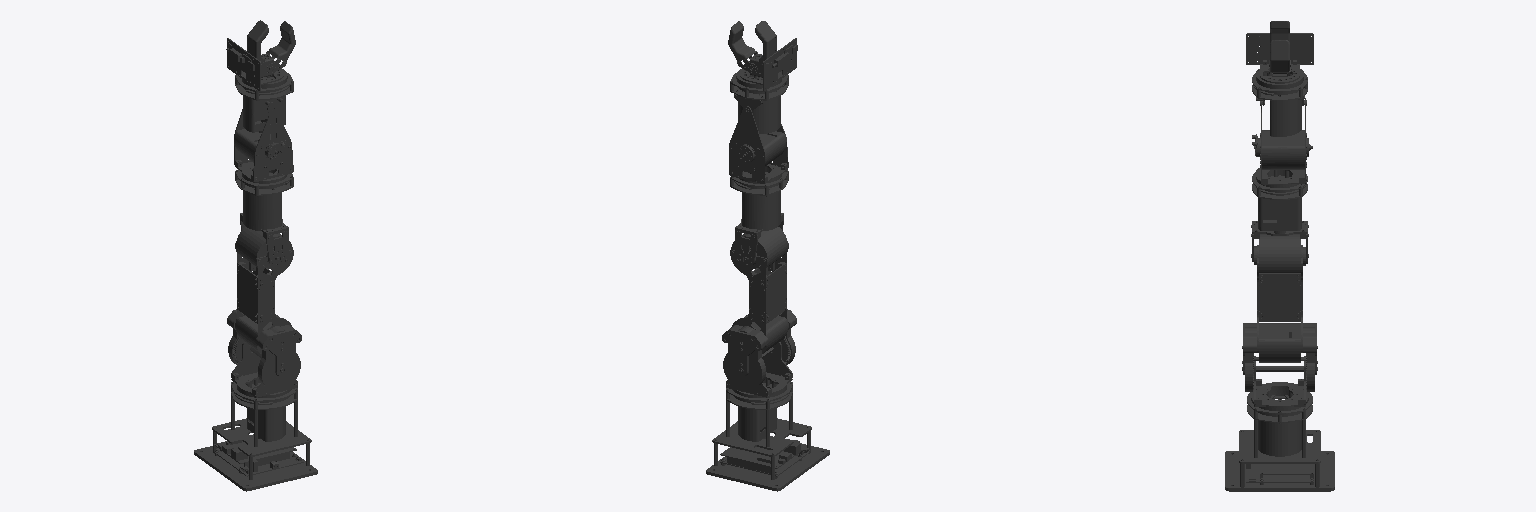
URDF robot description (nekonote):
<?xml version="1.0" ?>
<!-- =================================================================================== -->
<!-- |    This document was autogenerated by xacro from nekonote.urdf.xacro            | -->
<!-- |    EDITING THIS FILE BY HAND IS NOT RECOMMENDED                                 | -->
<!-- =================================================================================== -->
<robot name="nekonote" xmlns:xacro="http://ros.org/wiki/xacro">
  <!-- NEKONOTE Base URDF -->
  <!-- Pi, the ratio of a circle's circumference to its diameter -->
  <!-- Pi divided by two -->
  <!-- Pi divided by four -->
  <!-- links -->
  <link name="base"/>
  <link name="base_link">
    <visual>
      <origin rpy="0 0 0" xyz="0 0 0"/>
      <geometry>
        <mesh filename="package://nekonote_description/meshes/visual/base/BODY.stl"/>
      </geometry>
      <material name="">
        <color rgba="0.3 0.3 0.3 1"/>
      </material>
    </visual>
    <collision>
      <origin rpy="0 0 0" xyz="0 0 0"/>
      <geometry>
        <mesh filename="package://nekonote_description/meshes/collision/base/BODY.stl"/>
      </geometry>
    </collision>
    <inertial>
      <origin rpy="0 0 0" xyz="-0.001239 -0.000962 0.075348"/>
      <mass value="0.851526"/>
      <inertia ixx="0.00234632" ixy="8.864e-09" ixz="-0.00019645" iyy="0.00224923" iyz="6.2667e-06" izz="0.00142133"/>
    </inertial>
  </link>
  <link name="link1">
    <visual>
      <origin rpy="0 0 0" xyz="0 0 0"/>
      <geometry>
        <mesh filename="package://nekonote_description/meshes/visual/base/JOINT1.stl"/>
      </geometry>
      <material name="">
        <color rgba="0.3 0.3 0.3 1"/>
      </material>
    </visual>
    <collision>
      <origin rpy="0 0 0" xyz="0 0 0"/>
      <geometry>
        <mesh filename="package://nekonote_description/meshes/collision/base/JOINT1.stl"/>
      </geometry>
    </collision>
    <inertial>
      <origin rpy="0 0 0" xyz="0.000216 0 0.032195"/>
      <mass value="0.142759"/>
      <inertia ixx="0.00028078" ixy="0" ixz="9.5105e-07" iyy="0.0001153" iyz="0" izz="0.00026862"/>
    </inertial>
  </link>
  <link name="link2">
    <visual>
      <origin rpy="1.570796327 0 0" xyz="0 0 0"/>
      <geometry>
        <mesh filename="package://nekonote_description/meshes/visual/base/JOINT2.stl"/>
      </geometry>
      <material name="">
        <color rgba="0.3 0.3 0.3 1"/>
      </material>
    </visual>
    <collision>
      <origin rpy="1.570796327 0 0" xyz="0 0 0"/>
      <geometry>
        <mesh filename="package://nekonote_description/meshes/collision/base/JOINT2.stl"/>
      </geometry>
    </collision>
    <inertial>
      <origin rpy="0 0 0" xyz="-0.002309 0.098761 0.00174"/>
      <mass value="0.983205"/>
      <inertia ixx="0.00556176" ixy="-0.00010003" ixz="-3.951e-06" iyy="0.00101996" iyz="-2.650e-05" izz="0.00513079"/>
    </inertial>
  </link>
  <link name="link3">
    <visual>
      <origin rpy="1.570796327 0 0" xyz="0 0 0"/>
      <geometry>
        <mesh filename="package://nekonote_description/meshes/visual/base/JOINT3.stl"/>
      </geometry>
      <material name="">
        <color rgba="0.3 0.3 0.3 1"/>
      </material>
    </visual>
    <collision>
      <origin rpy="1.570796327 0 0" xyz="0 0 0"/>
      <geometry>
        <mesh filename="package://nekonote_description/meshes/collision/base/JOINT3.stl"/>
      </geometry>
    </collision>
    <inertial>
      <origin rpy="0 0 0" xyz="-0.00312 0.08754 -0.00187"/>
      <mass value="0.552063"/>
      <inertia ixx="0.00081437" ixy="-6.414e-06" ixz="3.2409e-06" iyy="0.00039933" iyz="-2.038e-05" izz="0.0007055"/>
    </inertial>
  </link>
  <link name="link4">
    <visual>
      <origin rpy="0 0 0" xyz="0 0 0"/>
      <geometry>
        <mesh filename="package://nekonote_description/meshes/visual/base/JOINT4.stl"/>
      </geometry>
      <material name="">
        <color rgba="0.3 0.3 0.3 1"/>
      </material>
    </visual>
    <collision>
      <origin rpy="0 0 0" xyz="0 0 0"/>
      <geometry>
        <mesh filename="package://nekonote_description/meshes/collision/base/JOINT4.stl"/>
      </geometry>
    </collision>
    <inertial>
      <origin rpy="0 0 0" xyz="0.00227 0.00484 0.04053"/>
      <mass value="0.431401"/>
      <inertia ixx="0.0004845" ixy="7.7315e-06" ixz="-4.916e-06" iyy="0.00036954" iyz="3.8537e-05" izz="0.00039301"/>
    </inertial>
  </link>
  <link name="link5">
    <visual>
      <origin rpy="1.570796327 0 0" xyz="0 0 0"/>
      <geometry>
        <mesh filename="package://nekonote_description/meshes/visual/base/JOINT5.stl"/>
      </geometry>
      <material name="">
        <color rgba="0.3 0.3 0.3 1"/>
      </material>
    </visual>
    <collision>
      <origin rpy="1.570796327 0 0" xyz="0 0 0"/>
      <geometry>
        <mesh filename="package://nekonote_description/meshes/collision/base/JOINT5.stl"/>
      </geometry>
    </collision>
    <inertial>
      <origin rpy="0 0 0" xyz="0.001918 0.009121 -0.003233"/>
      <mass value="0.516153"/>
      <inertia ixx="0.00048104" ixy="2.5913e-05" ixz="-3.218e-06" iyy="0.00033885" iyz="-1.728e-05" izz="0.00051335"/>
    </inertial>
  </link>
  <link name="hand_base"/>
  <!-- joints -->
  <joint name="base_link-base" type="fixed">
    <origin rpy="0 0 0" xyz="0 0 0"/>
    <parent link="base_link"/>
    <child link="base"/>
  </joint>
  <joint name="joint0" type="revolute">
    <origin rpy="0 0 0" xyz="0 0 0.131"/>
    <parent link="base_link"/>
    <child link="link1"/>
    <axis xyz="0 0 1"/>
    <limit effort="0" lower="-1.7453" upper="1.7453" velocity="0"/>
  </joint>
  <joint name="joint1" type="revolute">
    <origin rpy="0 0 0" xyz="0 0 0.044"/>
    <parent link="link1"/>
    <child link="link2"/>
    <axis xyz="0 1 0"/>
    <limit effort="0" lower="-1.57" upper="1.57" velocity="0"/>
  </joint>
  <joint name="joint2" type="revolute">
    <origin rpy="0 0 0" xyz="0 0 0.1825"/>
    <parent link="link2"/>
    <child link="link3"/>
    <axis xyz="0 1 0"/>
    <limit effort="0" lower="-1.8353" upper="2.5837" velocity="0"/>
  </joint>
  <joint name="joint3" type="revolute">
    <origin rpy="0 0 0" xyz="0 0 0.1305"/>
    <parent link="link3"/>
    <child link="link4"/>
    <axis xyz="0 0 1"/>
    <limit effort="0" lower="-1.7453" upper="1.7453" velocity="0"/>
  </joint>
  <joint name="joint4" type="revolute">
    <origin rpy="0 0 0" xyz="0 0 0.117"/>
    <parent link="link4"/>
    <child link="link5"/>
    <axis xyz="0 -1 0"/>
    <limit effort="0" lower="-1.57" upper="1.57" velocity="0"/>
  </joint>
  <joint name="joint5" type="revolute">
    <origin rpy="0 0 0" xyz="0 0 0.045"/>
    <parent link="link5"/>
    <child link="hand_base"/>
    <axis xyz="0 0 -1"/>
    <limit effort="0" lower="-1.7453" upper="1.7453" velocity="0"/>
  </joint>
  <!-- End Effector -->
  <!-- Pi, the ratio of a circle's circumference to its diameter -->
  <!-- Pi divided by two -->
  <!-- Pi divided by four -->
  <!-- links -->
  <link name="gripper_base">
    <visual>
      <origin rpy="0 0 0" xyz="0 0 0"/>
      <geometry>
        <mesh filename="package://nekonote_description/meshes/visual/end_effector_A/HAND1.stl"/>
      </geometry>
      <material name="">
        <color rgba="0.3 0.3 0.3 1"/>
      </material>
    </visual>
    <collision>
      <origin rpy="0 0 0" xyz="0 0 0"/>
      <geometry>
        <mesh filename="package://nekonote_description/meshes/collision/end_effector_A/HAND1.stl"/>
      </geometry>
    </collision>
    <inertial>
      <origin rpy="0 0 0" xyz="-0.011687 4.8e-05 0.030393"/>
      <mass value="0.094464"/>
      <inertia ixx="9.9436e-05" ixy="1.1831e-07" ixz="-2.354e-05" iyy="0.00011232" iyz="2.5081e-07" izz="8.0987e-05"/>
    </inertial>
  </link>
  <link name="gripper_finger">
    <visual>
      <origin rpy="1.570796327 0 0" xyz="0 0 0"/>
      <geometry>
        <mesh filename="package://nekonote_description/meshes/visual/end_effector_A/HAND2.stl"/>
      </geometry>
      <material name="">
        <color rgba="0.3 0.3 0.3 1"/>
      </material>
    </visual>
    <collision>
      <origin rpy="1.570796327 0 0" xyz="0 0 0"/>
      <geometry>
        <mesh filename="package://nekonote_description/meshes/collision/end_effector_A/HAND2.stl"/>
      </geometry>
    </collision>
    <inertial>
      <origin rpy="0 0 0" xyz="0.009859 0.03583 0.000117"/>
      <mass value="0.023997"/>
      <inertia ixx="1.0078e-05" ixy="3.3380e-07" ixz="4.766e-09" iyy="3.0823e-06" iyz="1.7785e-08" izz="8.9093e-06"/>
    </inertial>
  </link>
  <link name="tool0"/>
  <!-- joints -->
  <joint name="hand_base-gripper_base" type="fixed">
    <origin rpy="0 0 0" xyz="0 0 0"/>
    <parent link="hand_base"/>
    <child link="gripper_base"/>
    <axis xyz="0 0 1"/>
  </joint>
  <joint name="gripper_joint" type="revolute">
    <origin rpy="0 0 0" xyz="0.004 0 0.0155"/>
    <parent link="gripper_base"/>
    <child link="gripper_finger"/>
    <axis xyz="0 1 0"/>
    <limit effort="0" lower="0.01658" upper="1.1576" velocity="0"/>
  </joint>
  <joint name="gripper_finger-tool0" type="fixed">
    <!-- TODO fix tool0 position-->
    <origin rpy="0 0 0" xyz="0 0 0.01"/>
    <parent link="gripper_finger"/>
    <child link="tool0"/>
  </joint>
</robot>

--- Render facts (derived) ---
Views: 3 orthographic renders of the robot side by side, from view 1: azimuth 30°, elevation 25°; view 2: azimuth 150°, elevation 25°; view 3: azimuth 270°, elevation 25°.
Model nekonote with 11 links and 10 joints (7 revolute, 3 fixed), rooted at base_link, posed all joints at 0 but 1 set to mid-range because 0 is outside their limits (gripper_joint = 0.5871).
Links seen in each view (by area): view 1: base_link, link2, link4, link3, link5, gripper_base, link1, gripper_finger; view 2: base_link, link2, link4, link3, link5, gripper_base, link1, gripper_finger; view 3: base_link, link2, link3, link4, gripper_base, link5, link1, gripper_finger.
Boxes of the visible links, left/top/right/bottom form: base_link: left=194, top=379, right=317, bottom=491; link2: left=227, top=227, right=301, bottom=390; link4: left=234, top=102, right=293, bottom=181; link3: left=235, top=169, right=293, bottom=262; link5: left=235, top=67, right=293, bottom=132; gripper_base: left=226, top=20, right=283, bottom=90; link1: left=231, top=336, right=297, bottom=397; gripper_finger: left=266, top=21, right=295, bottom=73; base_link: left=706, top=379, right=829, bottom=491; link2: left=722, top=227, right=796, bottom=390; link4: left=729, top=106, right=788, bottom=183; link3: left=730, top=167, right=788, bottom=264; link5: left=730, top=67, right=788, bottom=133; gripper_base: left=740, top=21, right=797, bottom=90; link1: left=726, top=336, right=792, bottom=397; gripper_finger: left=728, top=21, right=757, bottom=73; base_link: left=1225, top=387, right=1334, bottom=491; link2: left=1242, top=234, right=1317, bottom=391; link3: left=1251, top=168, right=1308, bottom=263; link4: left=1252, top=98, right=1312, bottom=185; gripper_base: left=1246, top=21, right=1313, bottom=83; link5: left=1252, top=69, right=1307, bottom=136; link1: left=1253, top=353, right=1306, bottom=407; gripper_finger: left=1269, top=40, right=1290, bottom=73.
Size in the robot's own frame: 0.13 by 0.16 by 0.7427 metres.
8 mesh visuals loaded from 8 distinct referenced files (8 binary STL).
